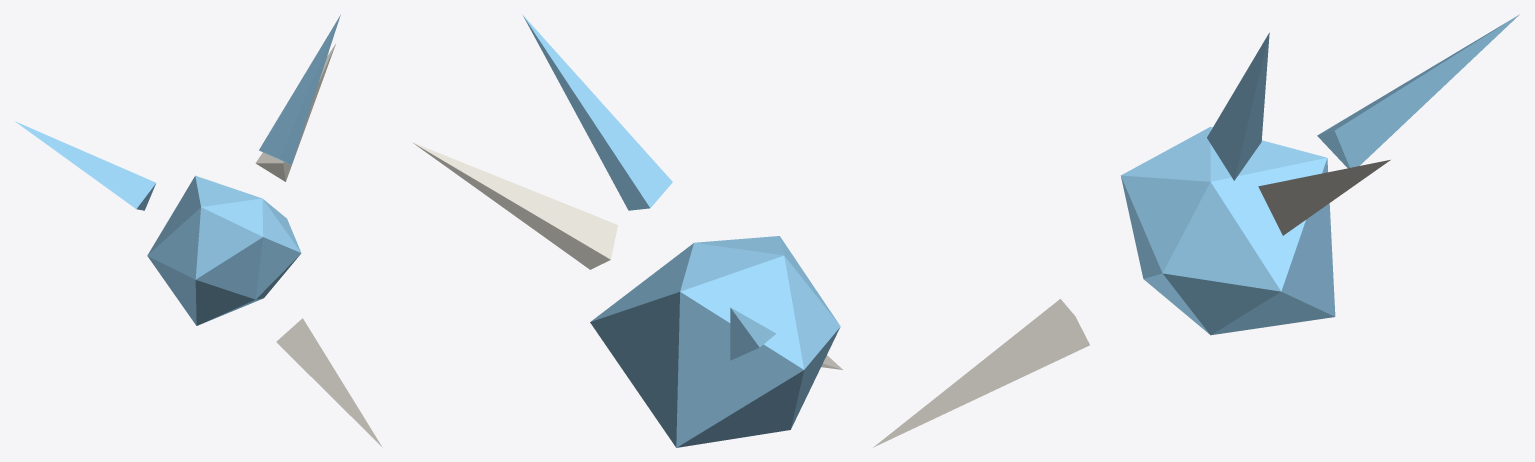
File: frame_0.glb
3 renders of one model, left to right at view 1: azimuth 30°, elevation 25°; view 2: azimuth 150°, elevation 25°; view 3: azimuth 270°, elevation 25°, orthographic. The views are drawn at different scales.
Parts seen in each view (by area): view 1: effect_electric_spark_frame_0; view 2: effect_electric_spark_frame_0; view 3: effect_electric_spark_frame_0.
Part boxes in pixels (left/top/right/bottom): effect_electric_spark_frame_0: left=15, top=15, right=382, bottom=447; effect_electric_spark_frame_0: left=412, top=14, right=842, bottom=447; effect_electric_spark_frame_0: left=873, top=14, right=1519, bottom=447.
Size of the model in its own units: 1.84 by 1.99 by 2.43.
